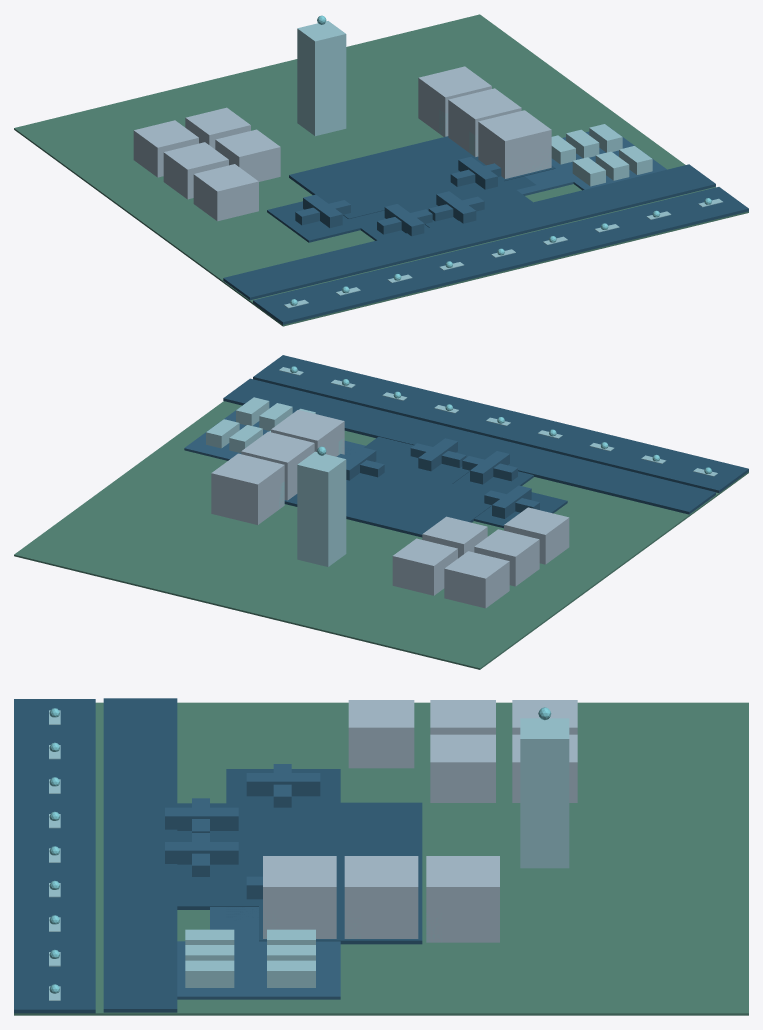
File: stage_21.glb
3 renders of one model, top to bottom at view 1: azimuth 30°, elevation 25°; view 2: azimuth 150°, elevation 25°; view 3: azimuth 270°, elevation 25°, orthographic. The views are drawn at different scales.
Visible parts, largest first — view 1: geometry_0; view 2: geometry_0; view 3: geometry_0.
Boxes of the visible parts, left/top/right/bottom form: geometry_0: left=14, top=14, right=748, bottom=326; geometry_0: left=14, top=355, right=748, bottom=669; geometry_0: left=14, top=698, right=748, bottom=1015.
Size of the model in its own units: 9 by 2.06 by 9.
